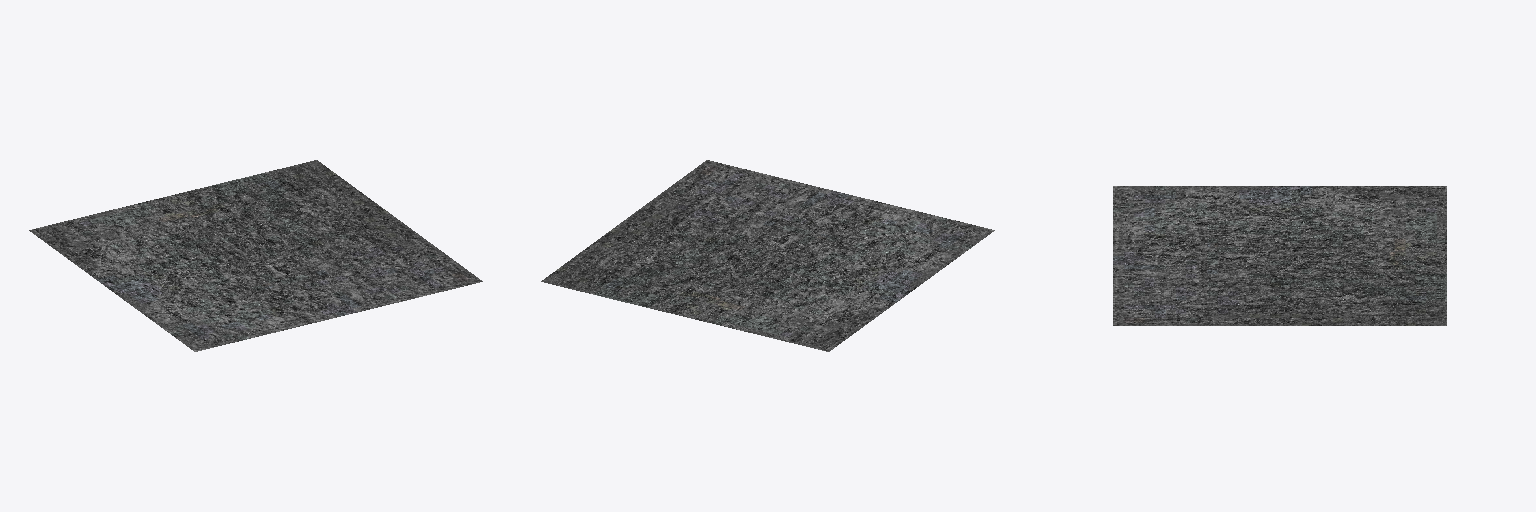
3 renders of one model, left to right at view 1: azimuth 30°, elevation 25°; view 2: azimuth 150°, elevation 25°; view 3: azimuth 270°, elevation 25°, orthographic.
Visible parts, largest first — view 1: Grid_Grid.003; view 2: Grid_Grid.003; view 3: Grid_Grid.003.
Boxes of the visible parts, x1,y1,x2,y2 form: Grid_Grid.003: [29, 160, 482, 351]; Grid_Grid.003: [541, 160, 994, 351]; Grid_Grid.003: [1113, 186, 1446, 325].
Bounding box in the file's own units: 1 × 0 × 1.
1 materials, 1 textured.